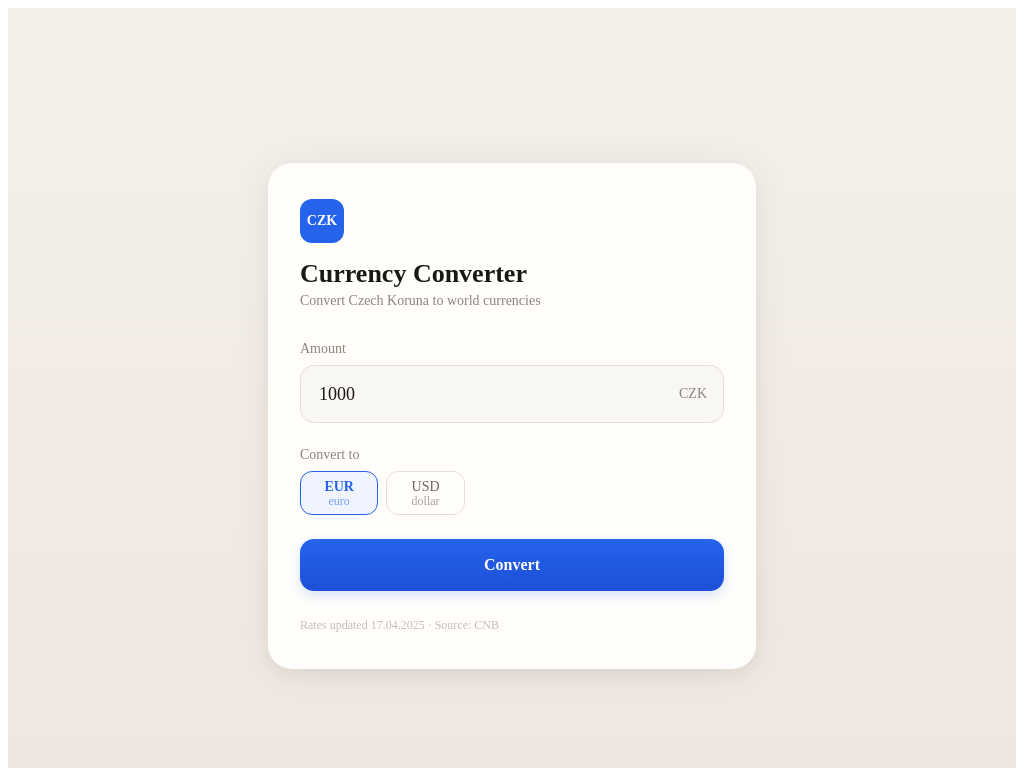
CurrencyConverter › computes correct conversion result for EUR
This screenshot has width=1024, height=768.
expect the button "EUR euro" is shown: met, box [300,471,378,515]
Click the button "Convert": (512, 565) [300,539,724,591]
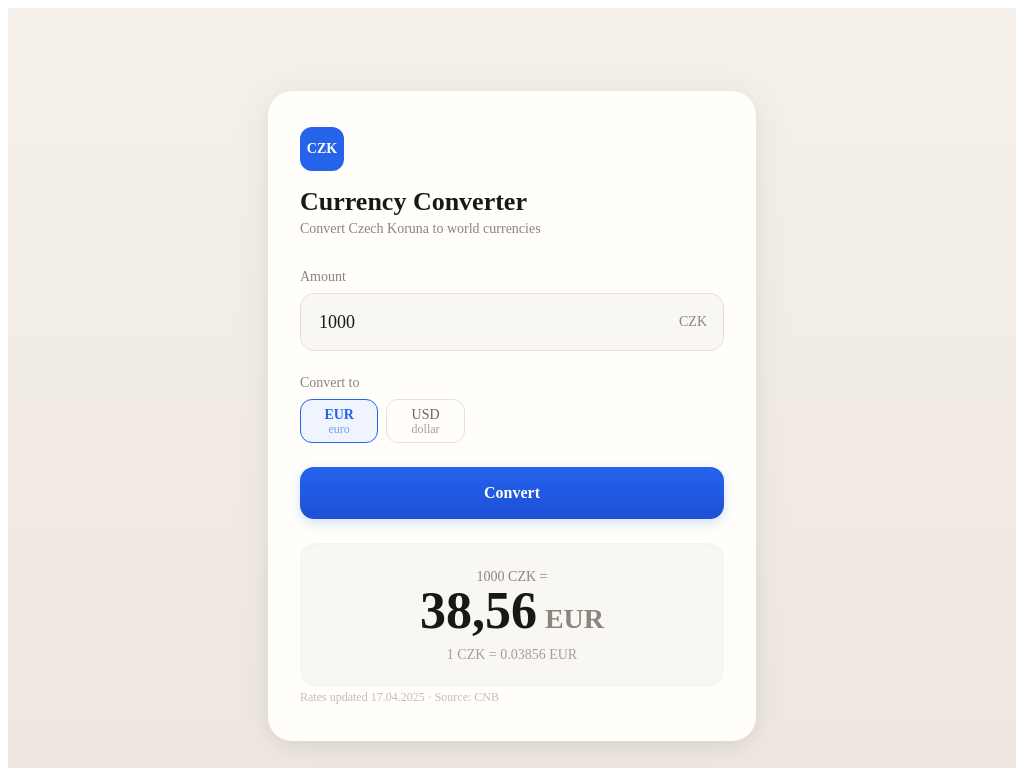
expect the text "38,56" is shown: met, box [420,585,537,637]
expect the text "1000 CZK =" is shown: met, box [476,569,547,584]
